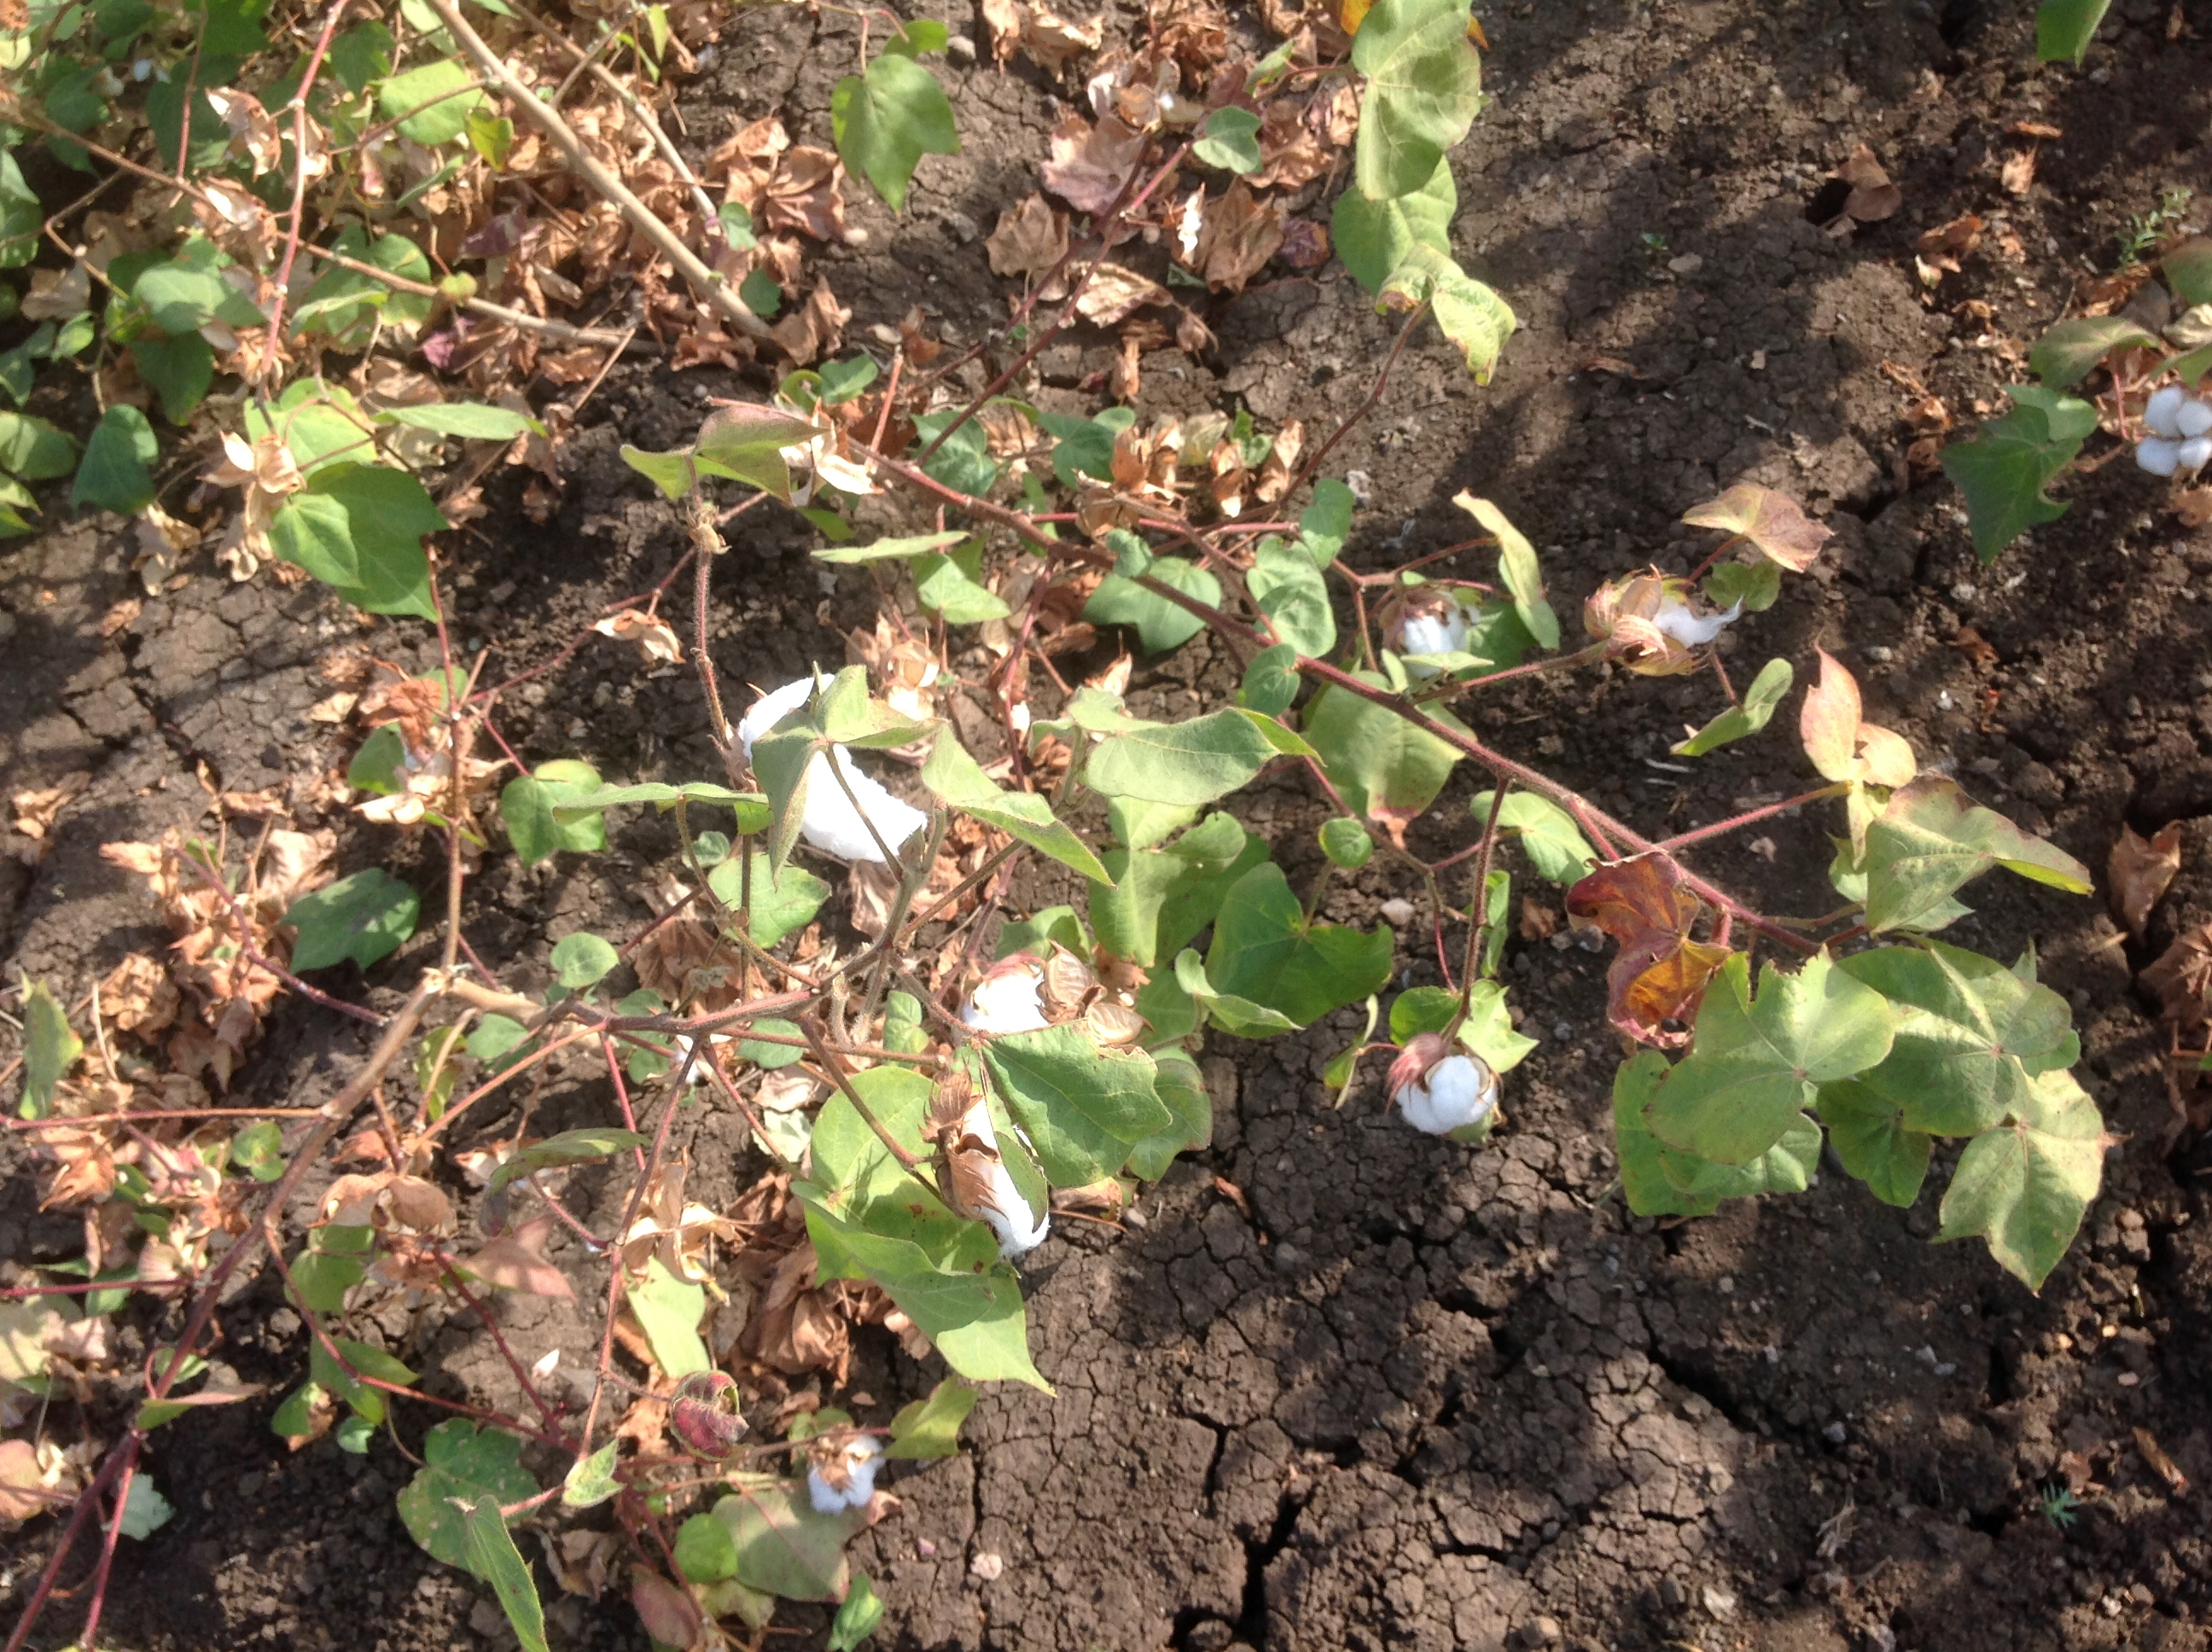cotton: (732, 672, 947, 906), (944, 963, 1070, 1277), (1386, 1039, 1502, 1157), (800, 1421, 902, 1531), (1388, 585, 1490, 680), (2129, 377, 2209, 486)
